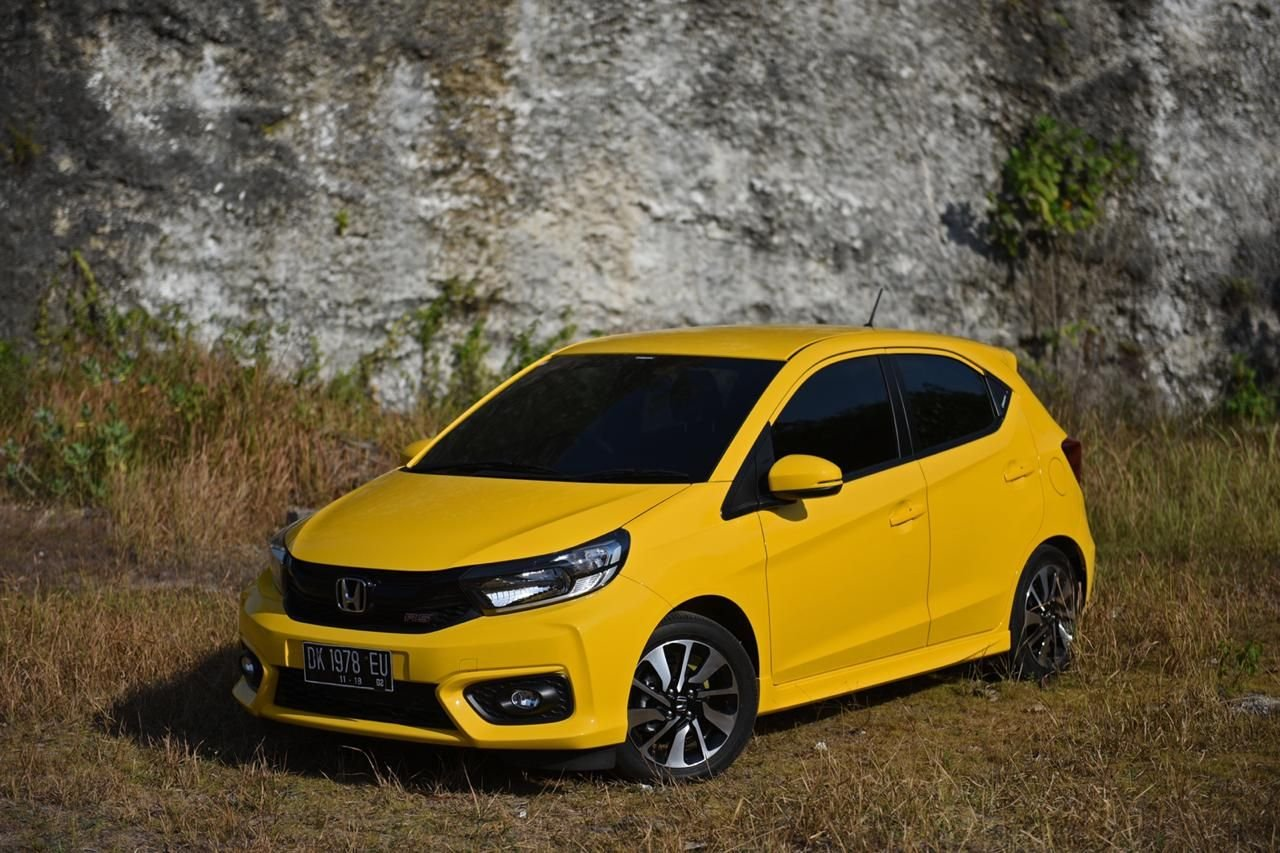mobil: (229, 316, 1105, 798)
